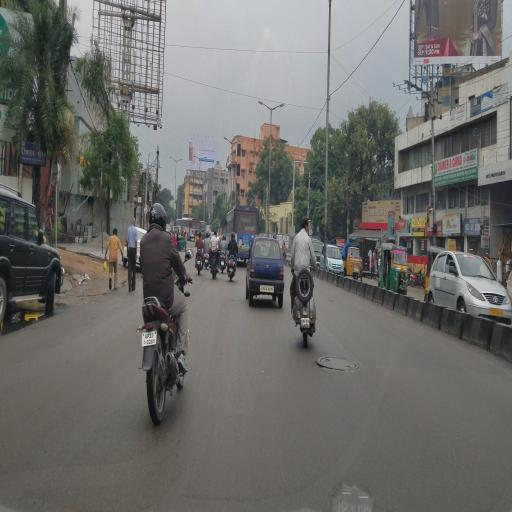street_light_0: (219, 124, 235, 152), (269, 95, 285, 119), (252, 95, 268, 119), (164, 146, 178, 172), (176, 148, 190, 174)
